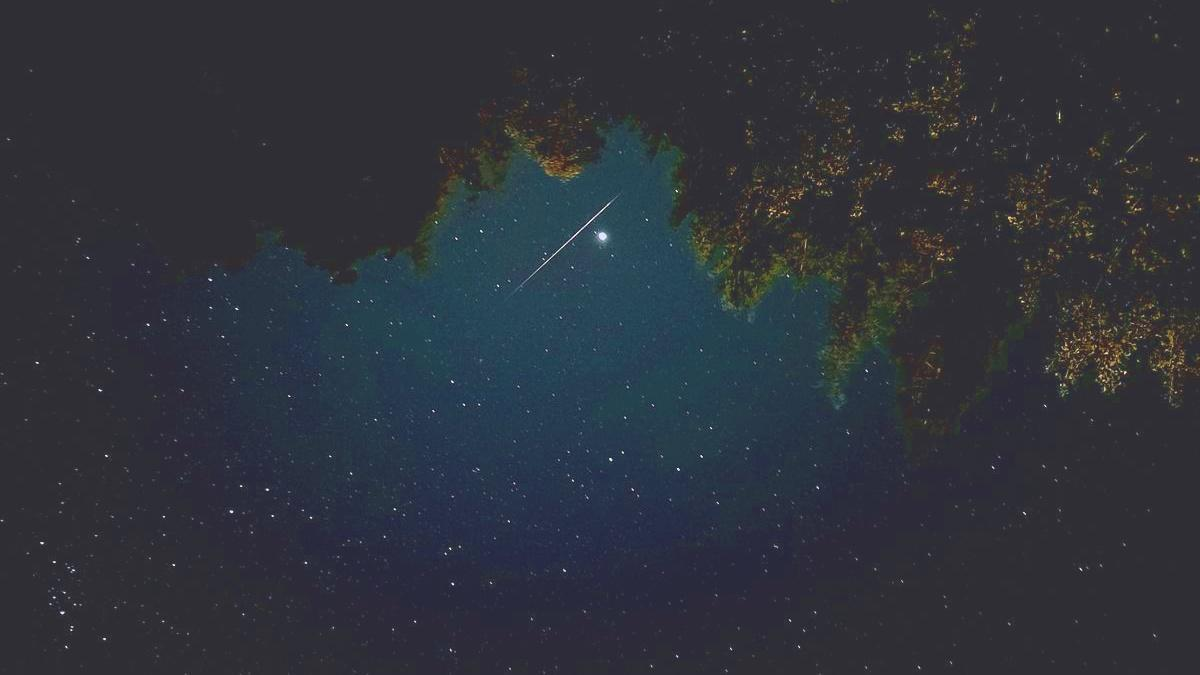meteorite: (497, 184, 631, 313)
